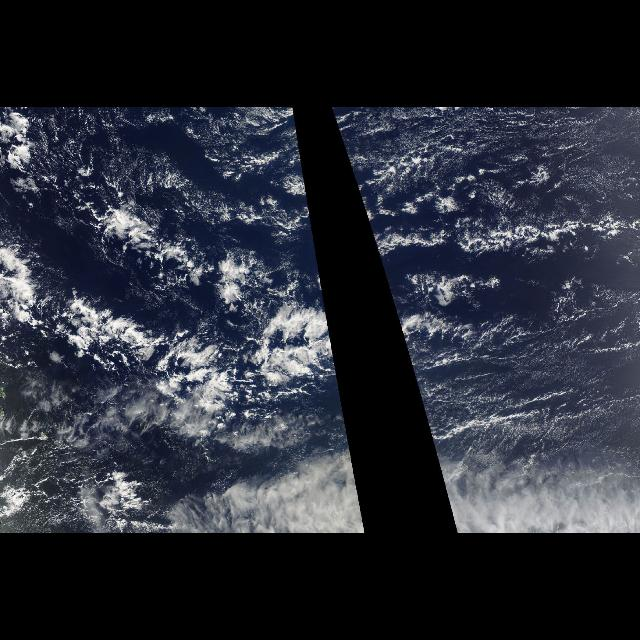Fish: (3, 181, 350, 449), (356, 187, 369, 226)
Gravel: (437, 332, 639, 462), (441, 170, 633, 266), (11, 444, 155, 522), (47, 184, 159, 278)
Sugar: (354, 110, 638, 216), (412, 342, 640, 468)
